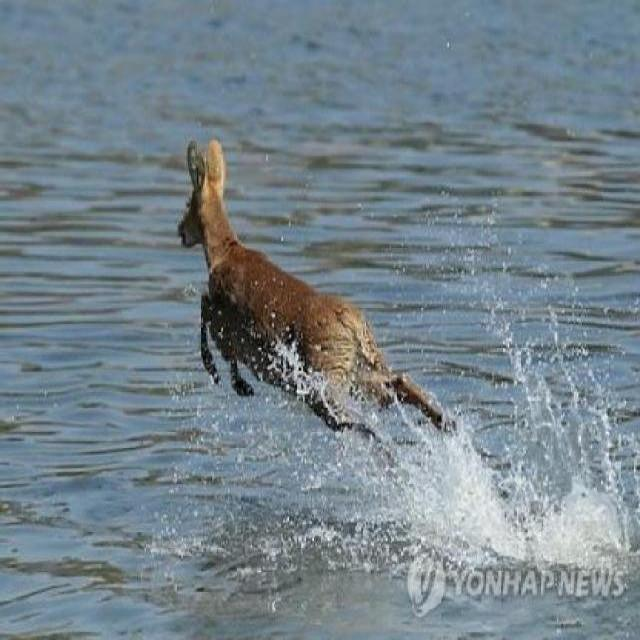deer: (162, 133, 484, 518)
